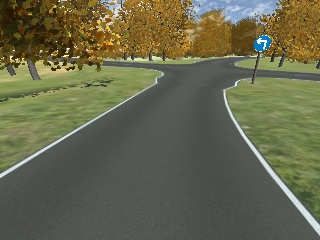left: (254, 37, 271, 52)
